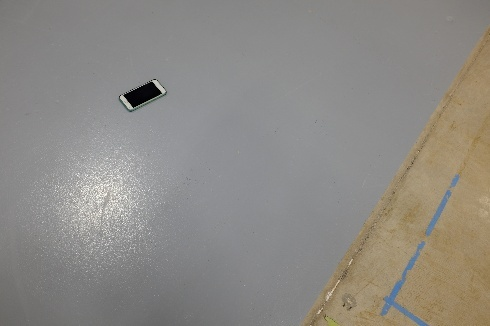phone: (118, 78, 167, 110)
